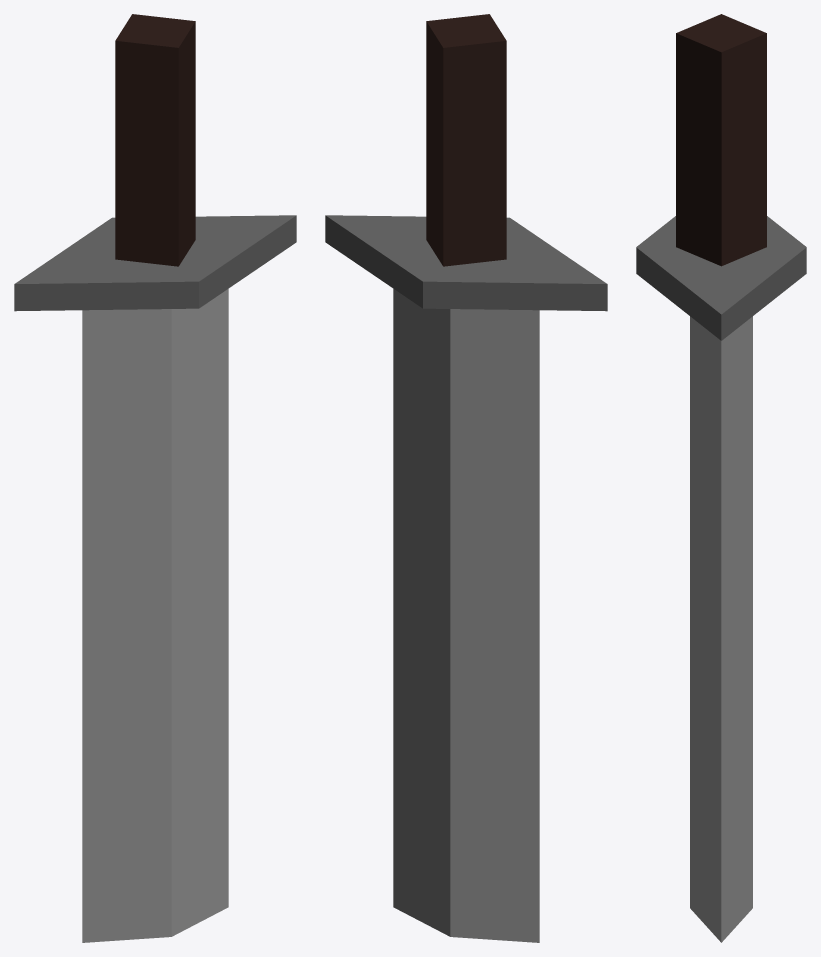
The model's file is stuck-sword_01.fbx.
The picture shows the model from 3 angles, left to right: view 1: azimuth 30°, elevation 25°; view 2: azimuth 150°, elevation 25°; view 3: azimuth 270°, elevation 25°; orthographic projection. The views are drawn at different scales.
Parts seen in each view (by area): view 1: sword-half_metal_geo; view 2: sword-half_metal_geo; view 3: sword-half_metal_geo.
Part boxes in pixels (x1=…): sword-half_metal_geo: x1=14, y1=14, x2=296, y2=942; sword-half_metal_geo: x1=325, y1=14, x2=607, y2=942; sword-half_metal_geo: x1=636, y1=14, x2=806, y2=942.
Size of the model in its own units: 27.35 by 82.74 by 14.63.
